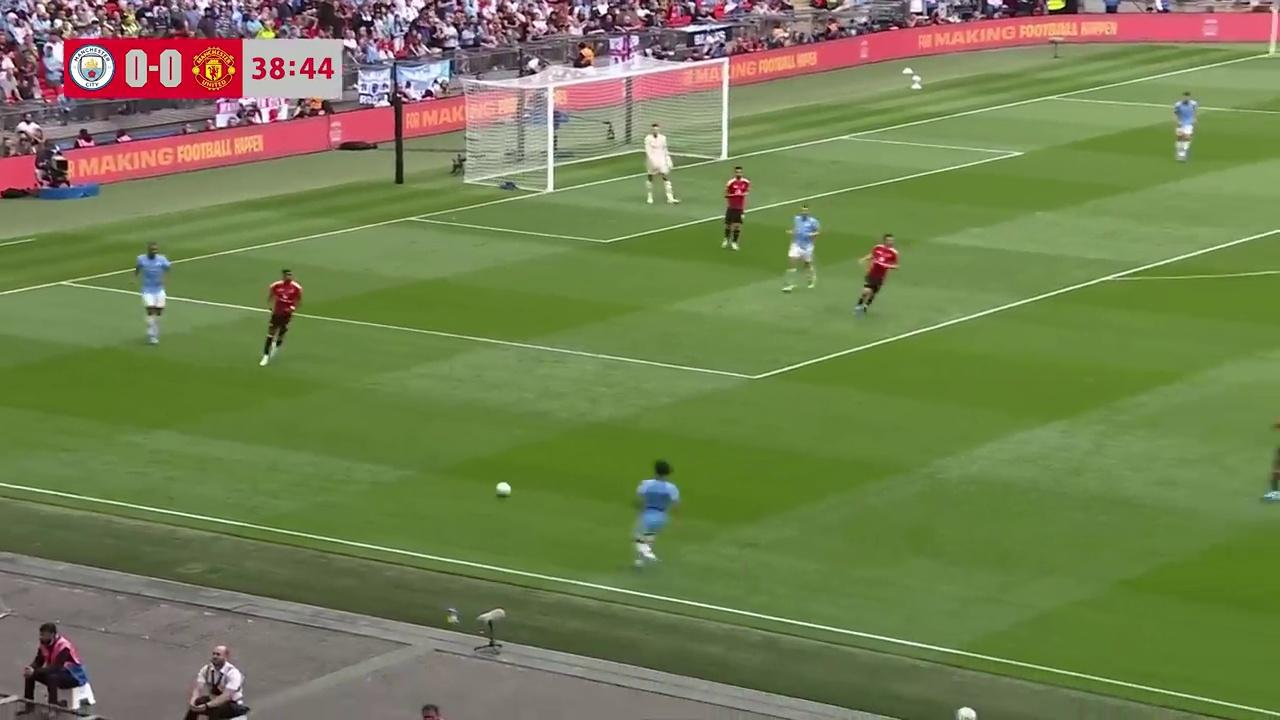ball: (494, 478, 512, 497)
player: (631, 459, 681, 568), (259, 268, 302, 363), (854, 232, 900, 316), (781, 205, 821, 291), (136, 247, 168, 345), (643, 123, 680, 204), (721, 165, 751, 250), (1260, 402, 1280, 505), (1173, 91, 1198, 160)
